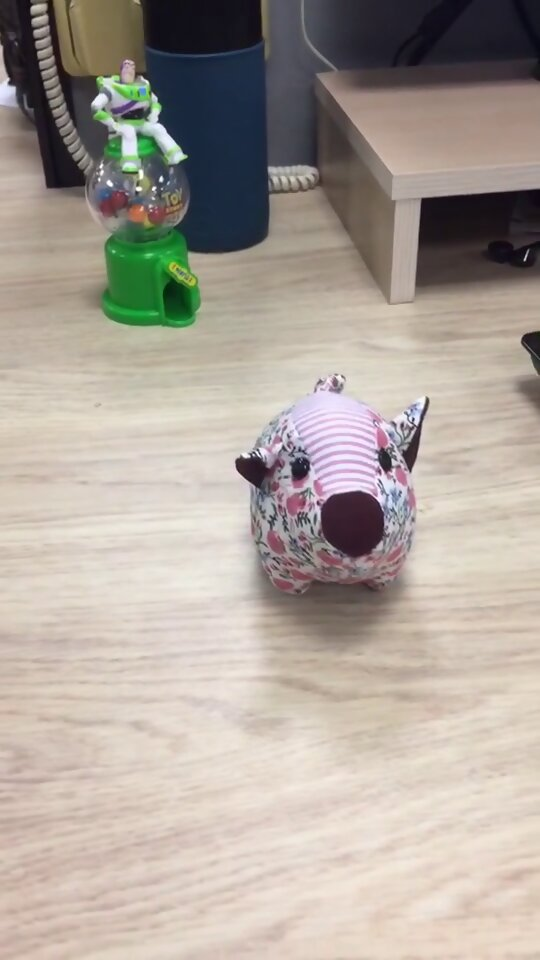pig: (232, 370, 436, 599)
